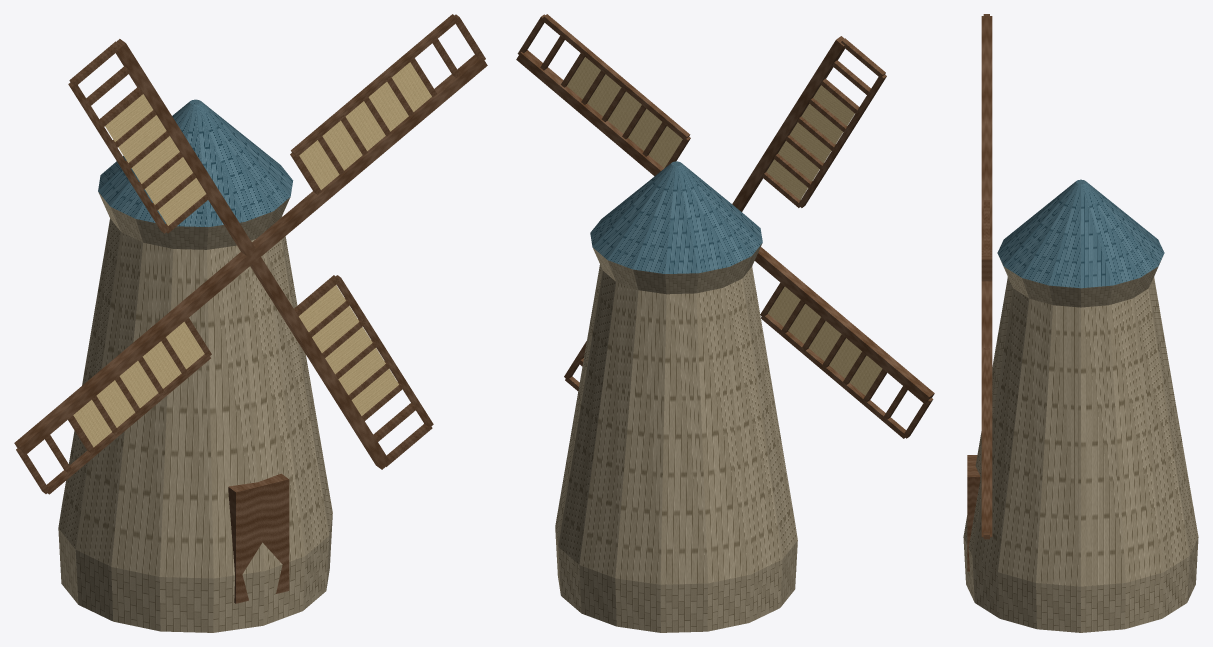
The model's file is sail_mill.glb.
3 renders of one model, left to right at view 1: azimuth 30°, elevation 25°; view 2: azimuth 150°, elevation 25°; view 3: azimuth 270°, elevation 25°, orthographic. The views are drawn at different scales.
Bounding box in the file's own units: 17.55 × 21.77 × 9.
Materials: 1 (1 with a texture image).
